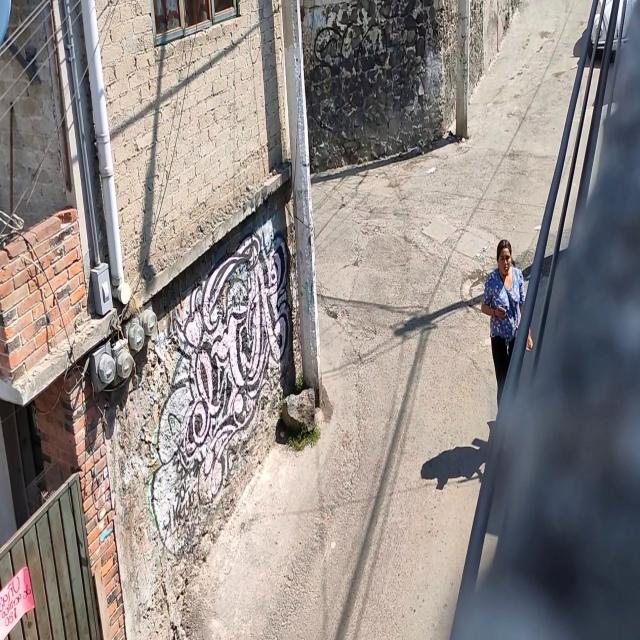adult: (480, 237, 534, 418)
